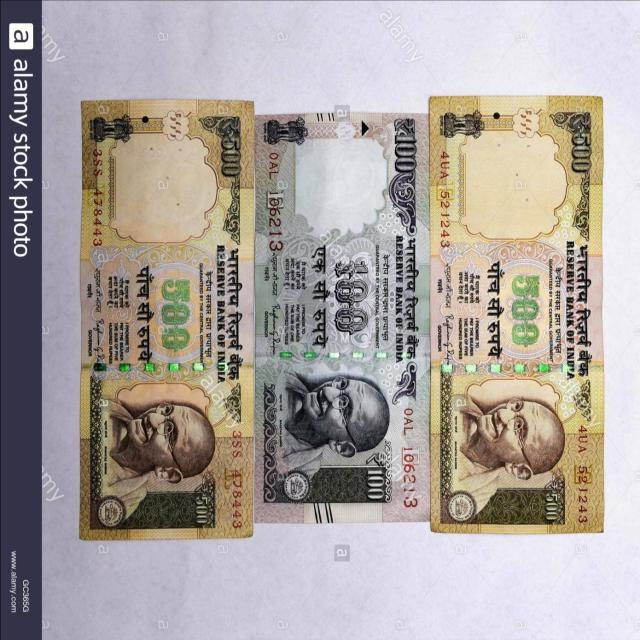100IndianRupees: (253, 113, 427, 521)
